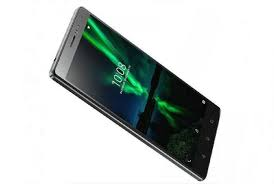lenovo: (47, 6, 223, 182)
